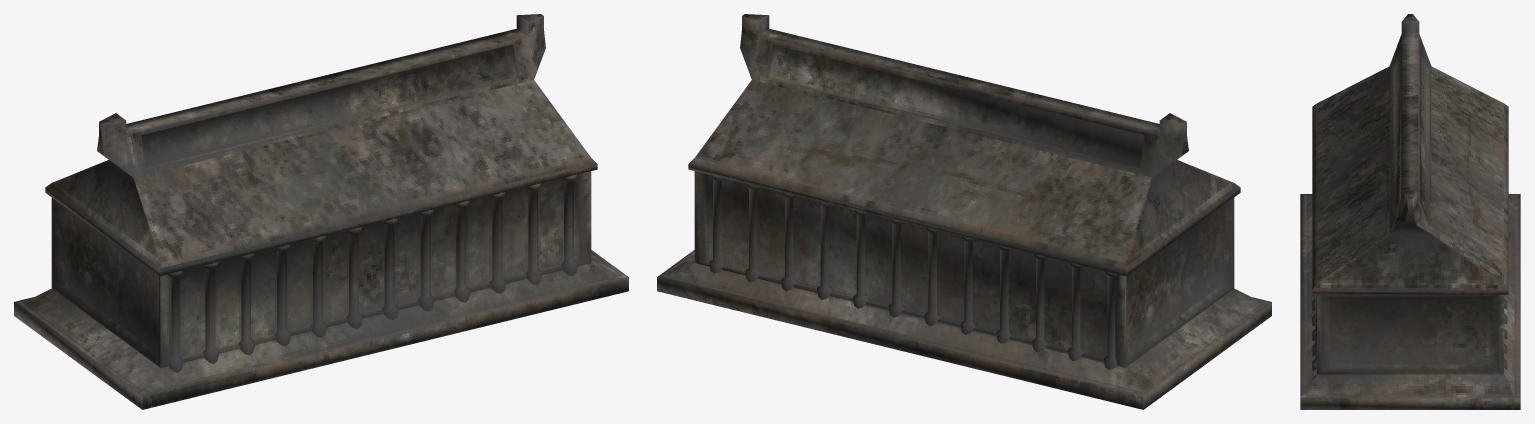
File: sarcophagus_openable.glb
The picture shows the model from 3 angles, left to right: view 1: azimuth 30°, elevation 25°; view 2: azimuth 150°, elevation 25°; view 3: azimuth 270°, elevation 25°; orthographic projection. The views are drawn at different scales.
Parts seen in each view (by area): view 1: MeshInstance3D.001, MeshInstance3D; view 2: MeshInstance3D.001, MeshInstance3D; view 3: MeshInstance3D.001, MeshInstance3D.
Boxes of the visible parts, left/top/right/bottom form: MeshInstance3D.001: left=45, top=14, right=597, bottom=276; MeshInstance3D: left=14, top=171, right=628, bottom=409; MeshInstance3D.001: left=688, top=14, right=1240, bottom=276; MeshInstance3D: left=657, top=171, right=1271, bottom=409; MeshInstance3D.001: left=1312, top=14, right=1508, bottom=294; MeshInstance3D: left=1300, top=194, right=1520, bottom=409.
Bounding box in the file's own units: 4.57 × 2.12 × 2.09.
1 material, 1 textured.
